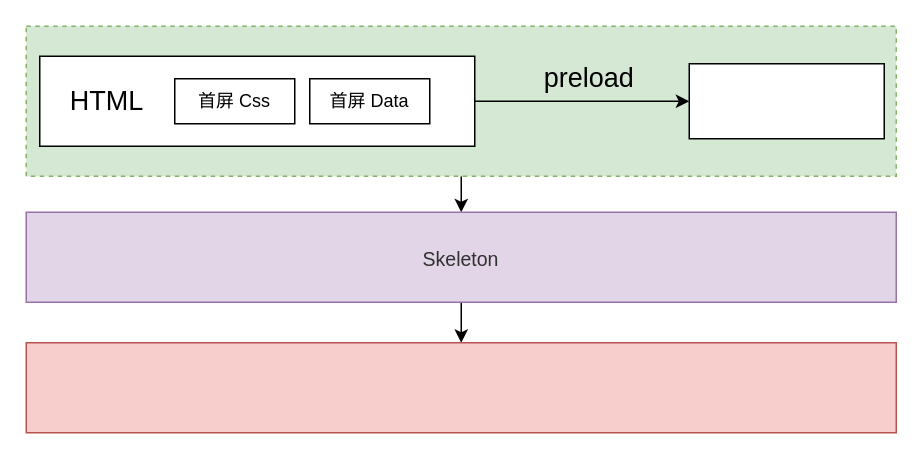
The diagram is 923 pixels wide and 459 high, and some of its shapes have lost their labels. The centre of each missing label's shape, as x and y in pixels:
"Render Page" belongs at (x=460, y=387).
"首屏Js组件" belongs at (x=786, y=100).
